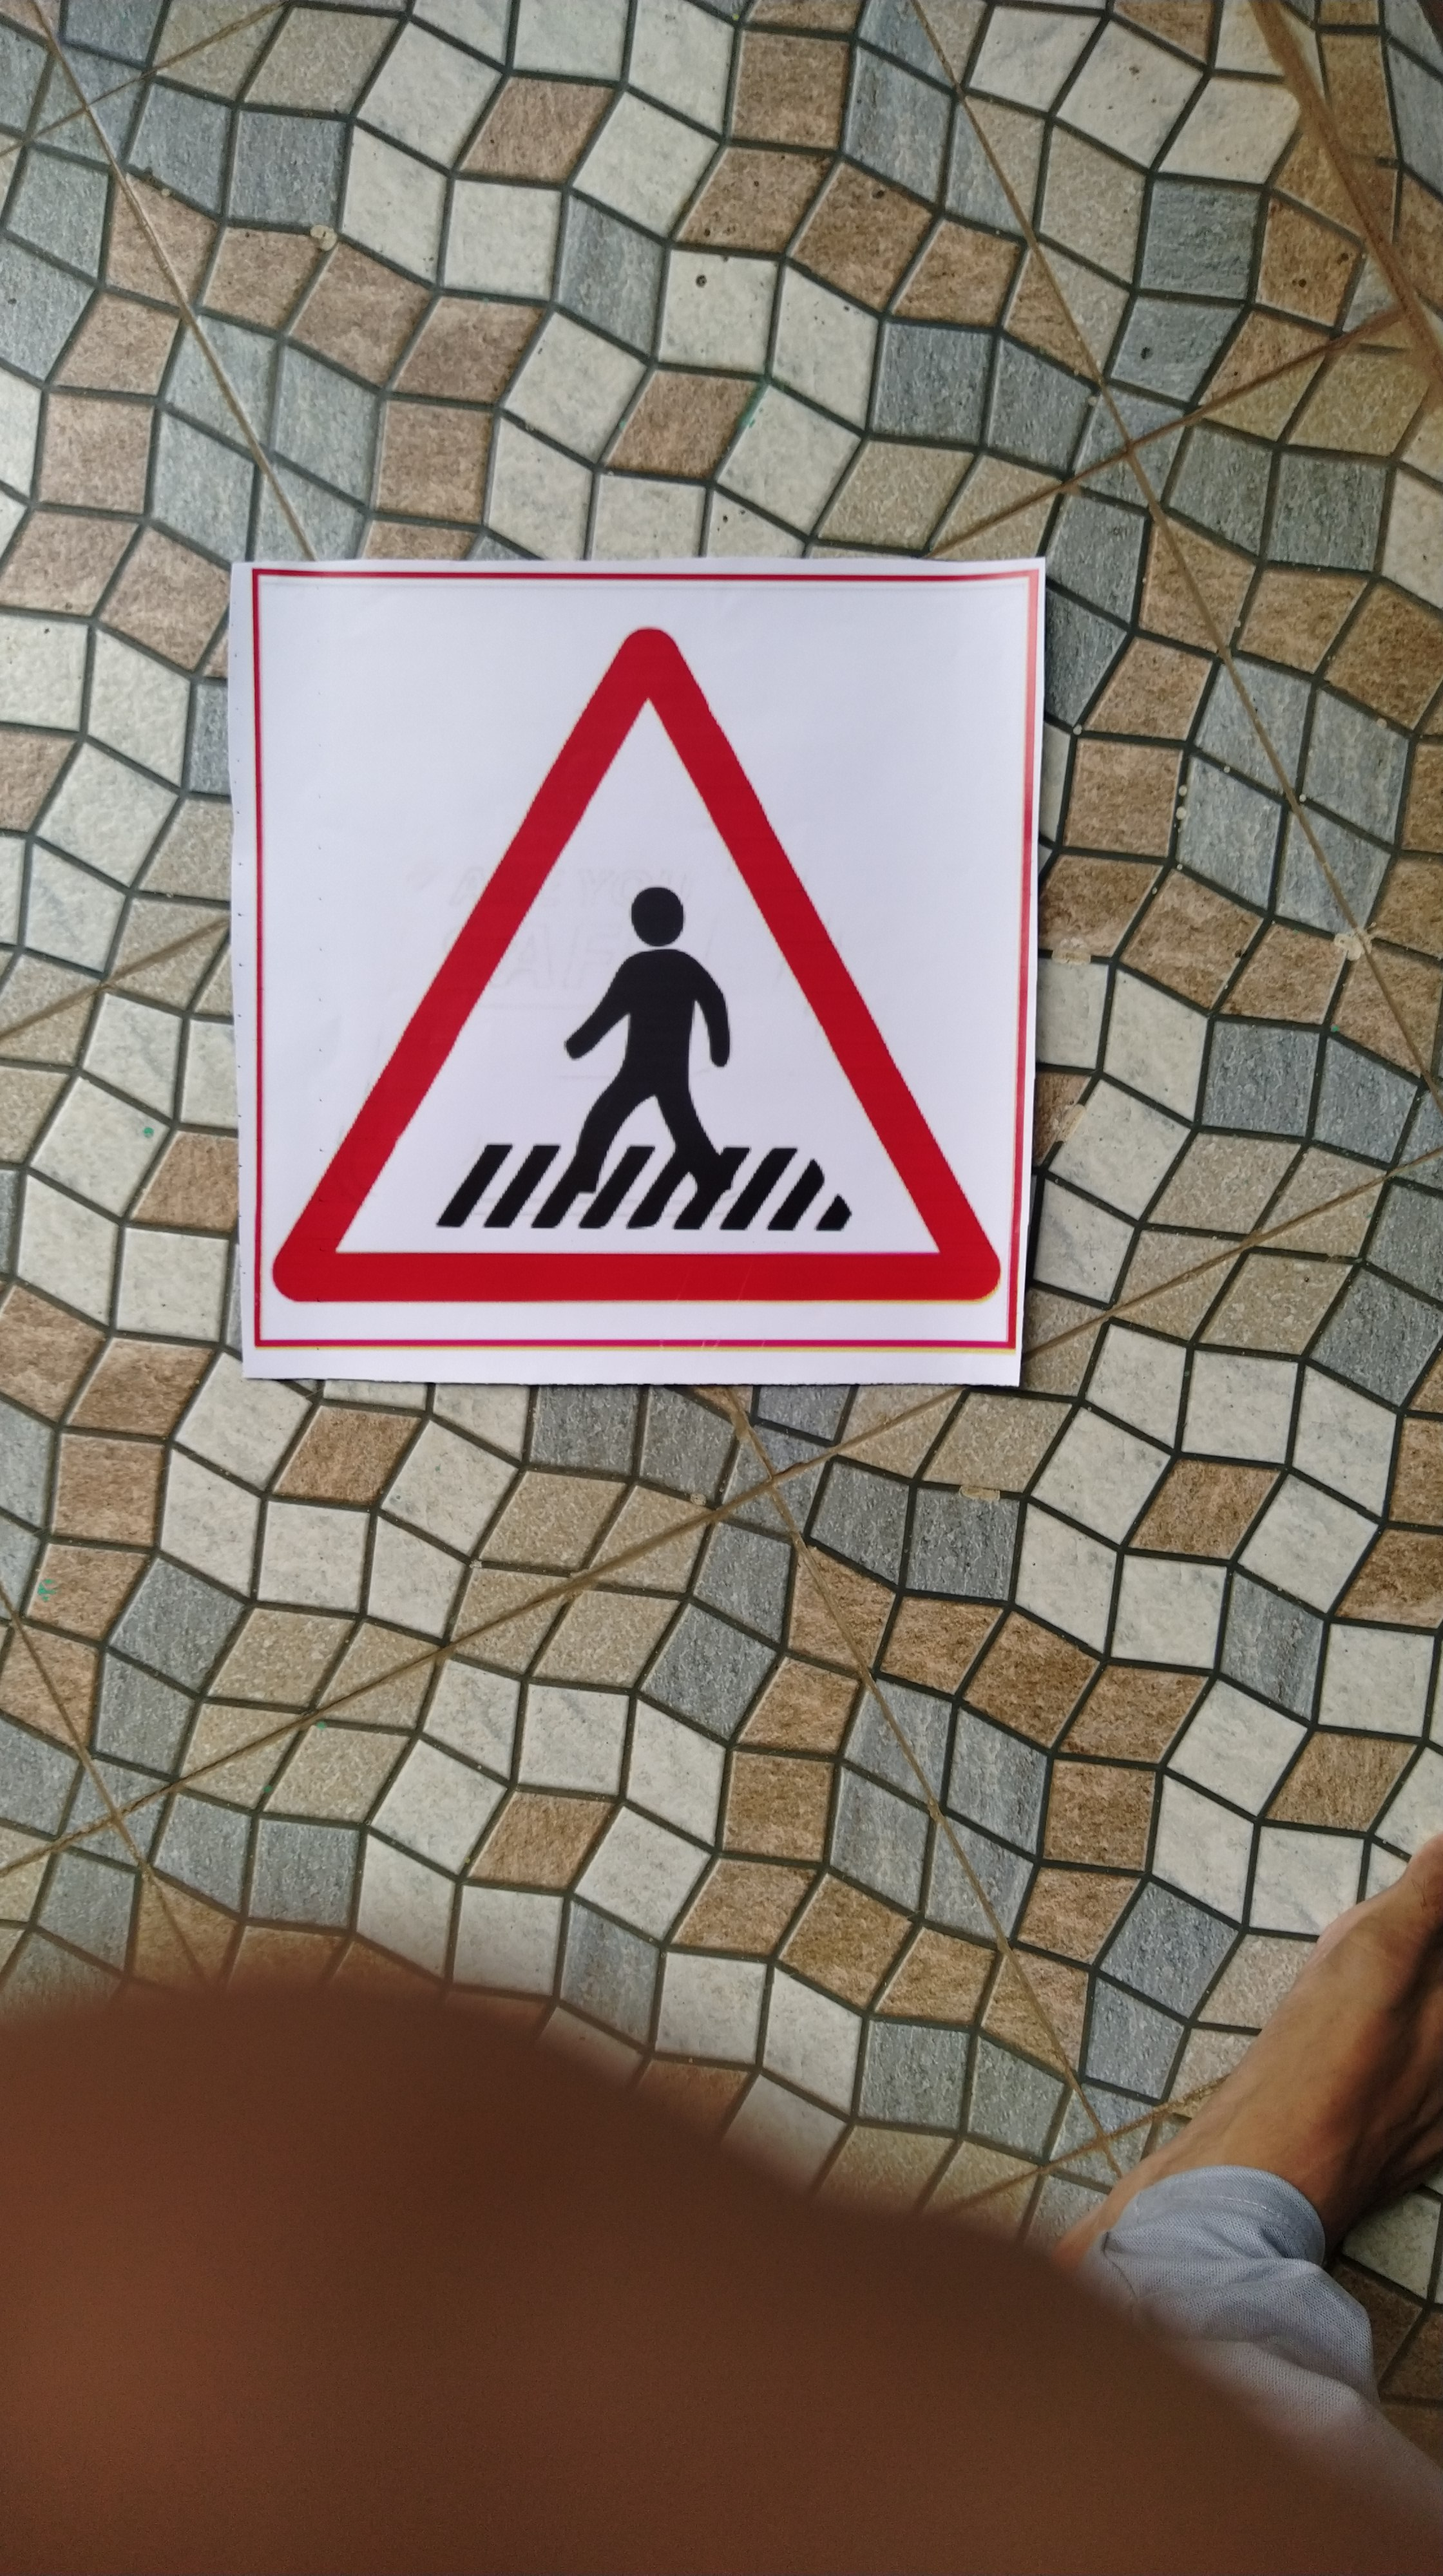pedestrain crossing: (251, 616, 1023, 1292)
